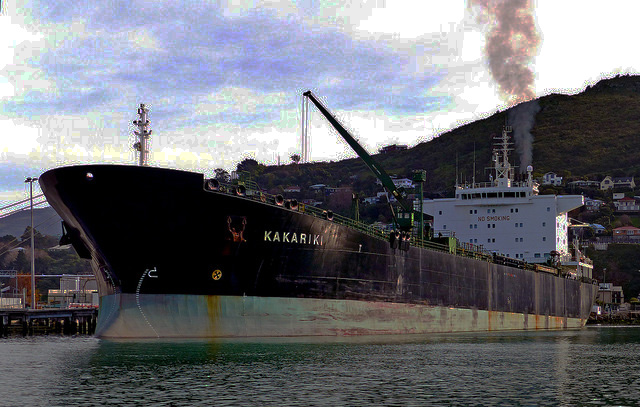tanker: (32, 89, 598, 340)
